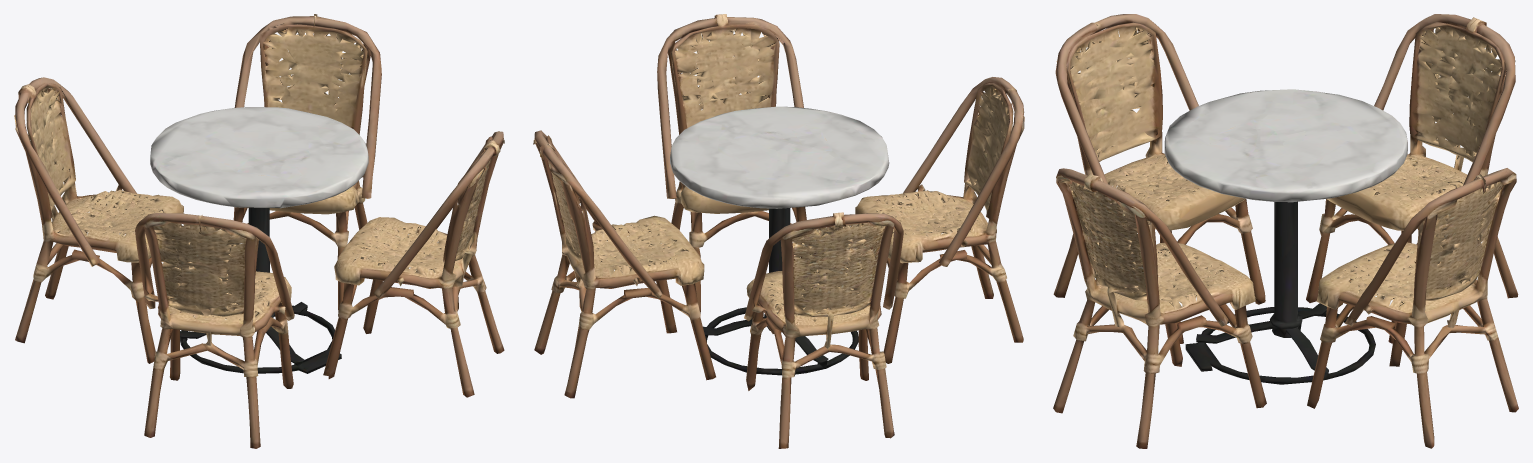
File: cafe_set.glb
3 views of the same model, side by side, from view 1: azimuth 30°, elevation 25°; view 2: azimuth 150°, elevation 25°; view 3: azimuth 270°, elevation 25° (orthographic). The views are drawn at different scales.
Visible parts, largest first — view 1: tripo_node_936349c2-f05b-4989-9276-26eca3fd3e1e; view 2: tripo_node_936349c2-f05b-4989-9276-26eca3fd3e1e; view 3: tripo_node_936349c2-f05b-4989-9276-26eca3fd3e1e.
Part boxes in pixels (x1=…): tripo_node_936349c2-f05b-4989-9276-26eca3fd3e1e: x1=14, y1=14, x2=504, y2=448; tripo_node_936349c2-f05b-4989-9276-26eca3fd3e1e: x1=533, y1=14, x2=1024, y2=448; tripo_node_936349c2-f05b-4989-9276-26eca3fd3e1e: x1=1053, y1=14, x2=1518, y2=448.
Bounding box in the file's own units: 0.9813 × 0.6127 × 1.
Materials: 1 (1 with a texture image).
